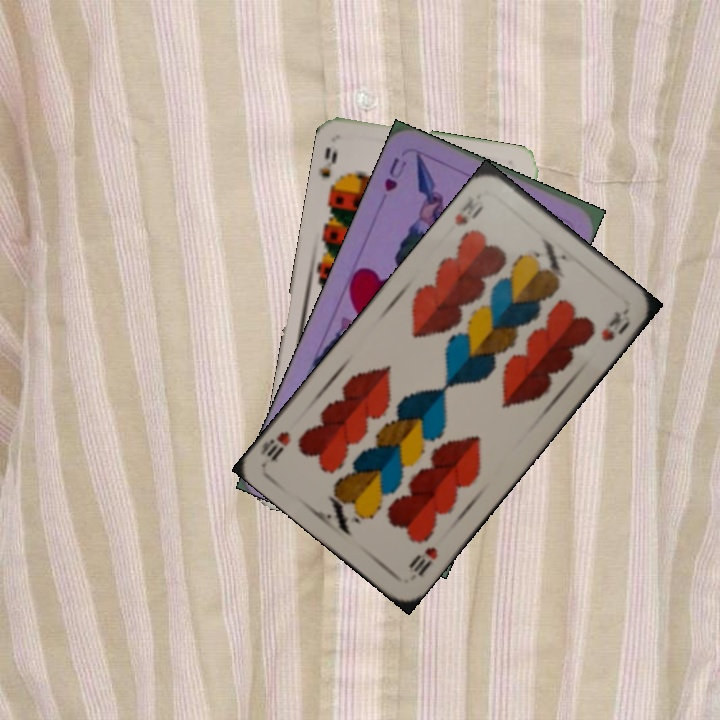H10: (404, 542, 441, 579), (450, 195, 487, 229)
HU: (380, 152, 410, 195)
S9: (316, 143, 343, 198)
